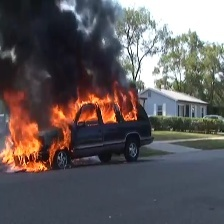fire: (0, 69, 142, 169)
